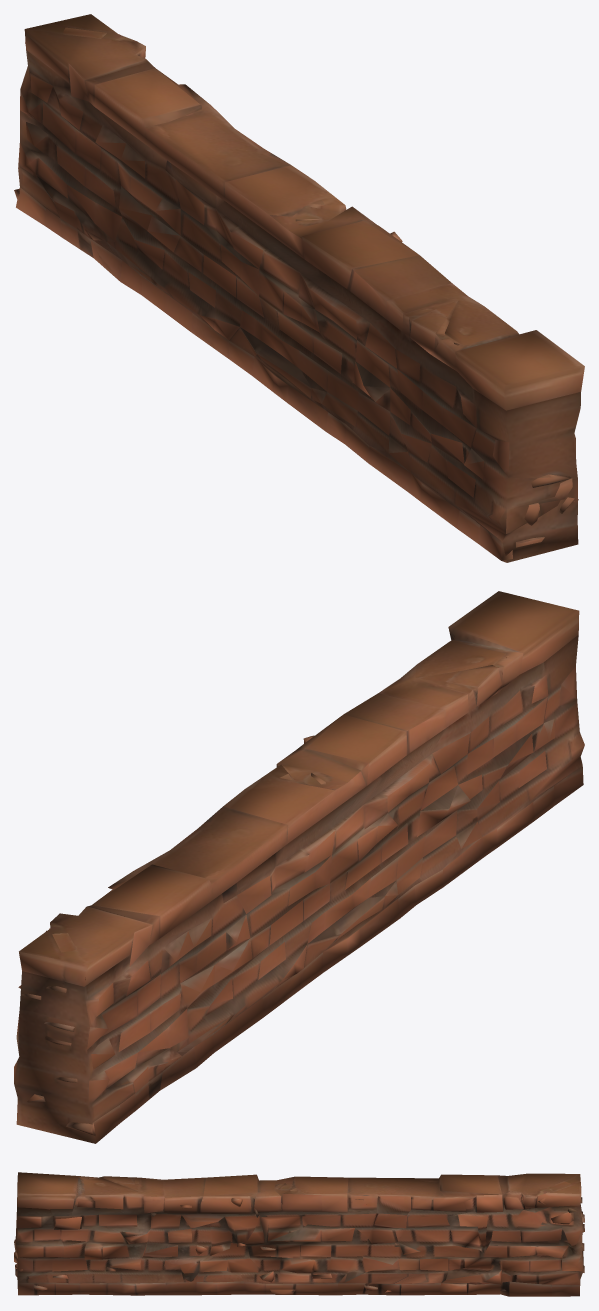
The model's file is garden_wall.glb.
3 renders of one model, top to bottom at view 1: azimuth 30°, elevation 25°; view 2: azimuth 150°, elevation 25°; view 3: azimuth 270°, elevation 25°, orthographic. The views are drawn at different scales.
Visible parts, largest first — view 1: garden_wall_LOD0; view 2: garden_wall_LOD0; view 3: garden_wall_LOD0.
Part boxes in pixels (x1,y1,x2,y2): garden_wall_LOD0: (14, 14, 584, 562); garden_wall_LOD0: (14, 591, 584, 1143); garden_wall_LOD0: (14, 1172, 584, 1296).
Size of what is drawn, in the model's own units: 0.3466 by 0.5947 by 3.
1 material, 1 textured.
